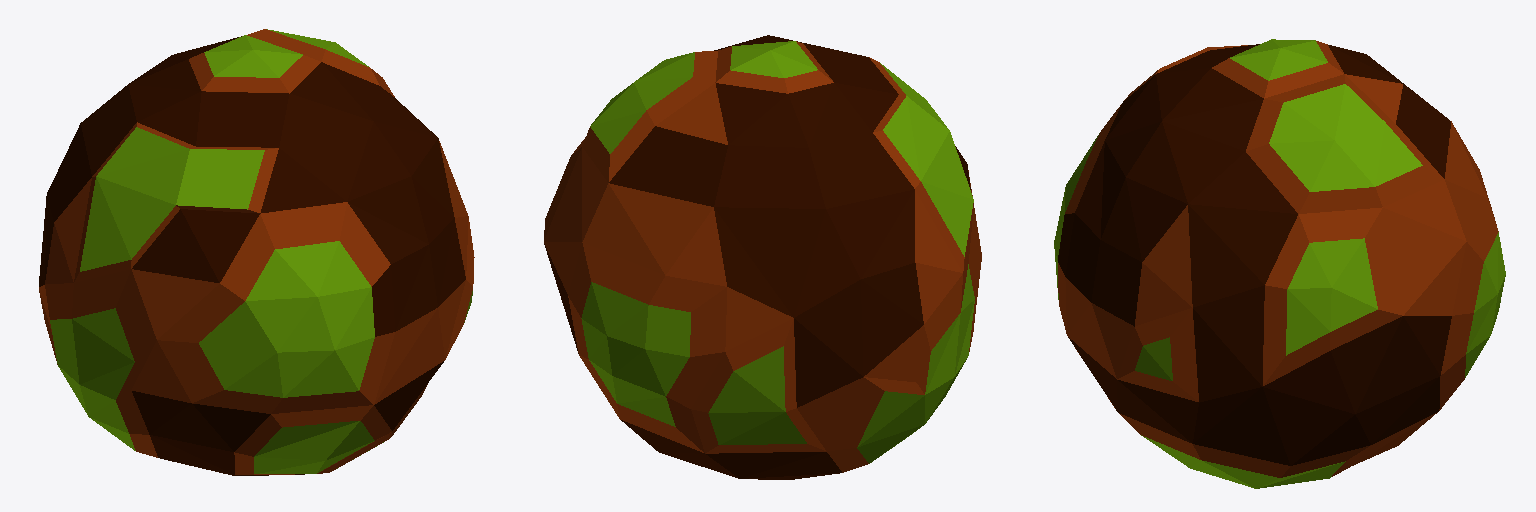
Rendered from Bola03.mtl.obj.
The picture shows the model from 3 angles: view 1: azimuth 30°, elevation 25°; view 2: azimuth 150°, elevation 25°; view 3: azimuth 270°, elevation 25°; orthographic projection.
Parts seen in each view (by area): view 1: Sphere; view 2: Sphere; view 3: Sphere.
Boxes of the visible parts, x1=… form: Sphere: x1=39, y1=29, x2=474, y2=475; Sphere: x1=544, y1=35, x2=981, y2=479; Sphere: x1=1054, y1=39, x2=1505, y2=488.
Size of the model in its own units: 2.01 by 2.1 by 2.09.